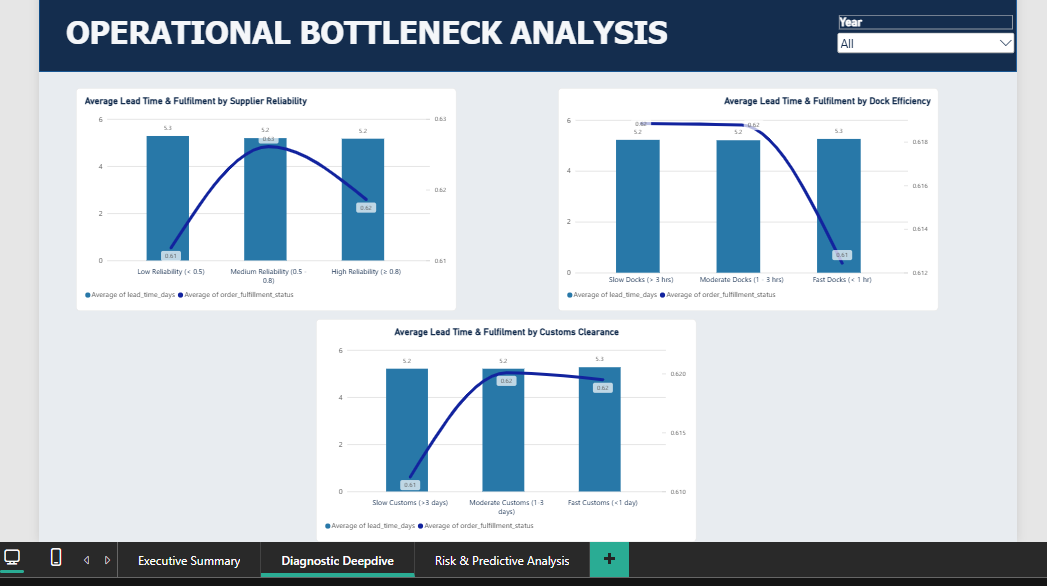

The page's visual inventory and layout, read from the dashboard file:
{"tool":"powerbi","page":{"name":"Diagnostic Deepdive","canvas":[1920,1080],"ordinal":1},"visuals":[{"type":"shape","box":[0,0,1920,156.9],"z":0},{"type":"lineClusteredColumnComboChart","title":"Average Lead Time & Fulfilment by Supplier Reliability","fields":{"Category":["cleaned_fleet_supply_chain.Supplier_reliability_tier"],"Y":["Avg(cleaned_fleet_supply_chain.lead_time_days)"],"Y2":["Avg(cleaned_fleet_supply_chain.order_fulfillment_status)"]},"box":[72.3,187.9,747.4,437.7],"z":1000},{"type":"lineClusteredColumnComboChart","title":"Average Lead Time & Fulfilment by Dock Efficiency","fields":{"Category":["cleaned_fleet_supply_chain.dock_efficiency_tier"],"Y":["Avg(cleaned_fleet_supply_chain.lead_time_days)"],"Y2":["Avg(cleaned_fleet_supply_chain.order_fulfillment_status)"]},"box":[1019.9,187.9,747.4,437.7],"z":2000},{"type":"lineClusteredColumnComboChart","title":"Average Lead Time & Fulfilment by Customs Clearance","fields":{"Category":["cleaned_fleet_supply_chain.Custom_tier"],"Y":["Avg(cleaned_fleet_supply_chain.lead_time_days)"],"Y2":["Avg(cleaned_fleet_supply_chain.order_fulfillment_status)"]},"box":[543,642.1,747.4,437.7],"z":3000},{"type":"slicer","fields":{"Values":["cleaned_fleet_supply_chain.Year"]},"box":[1562.8,45.4,357.2,97],"z":4000}]}

Visuals, with their boxes on the page's 1920x1080 design canvas (x1, y1, x2, y2). These are canvas units, not pixel positions in the 1047x586 screenshot, which may show the page scaled, cropped or inside an application window:
shape: select_region(0, 0, 1920, 157)
"Average Lead Time & Fulfilment by Supplier Reliability" lineClusteredColumnComboChart: select_region(72, 188, 820, 626)
"Average Lead Time & Fulfilment by Dock Efficiency" lineClusteredColumnComboChart: select_region(1020, 188, 1767, 626)
"Average Lead Time & Fulfilment by Customs Clearance" lineClusteredColumnComboChart: select_region(543, 642, 1290, 1080)
slicer - cleaned_fleet_supply_chain.Year: select_region(1563, 45, 1920, 142)
